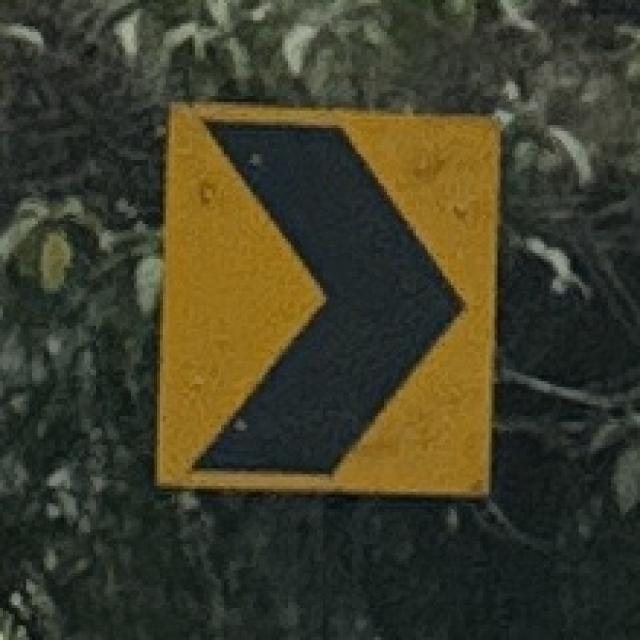TURN_RIGHT: (152, 96, 504, 500)
